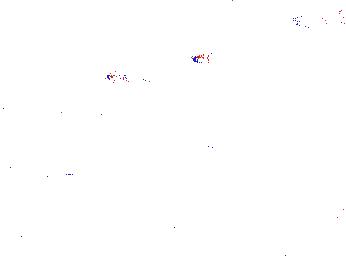glassfish: (202, 140, 311, 194)
red belly glassfish: (189, 48, 235, 67), (102, 69, 154, 85)
redtail glassfish: (288, 9, 346, 34)
